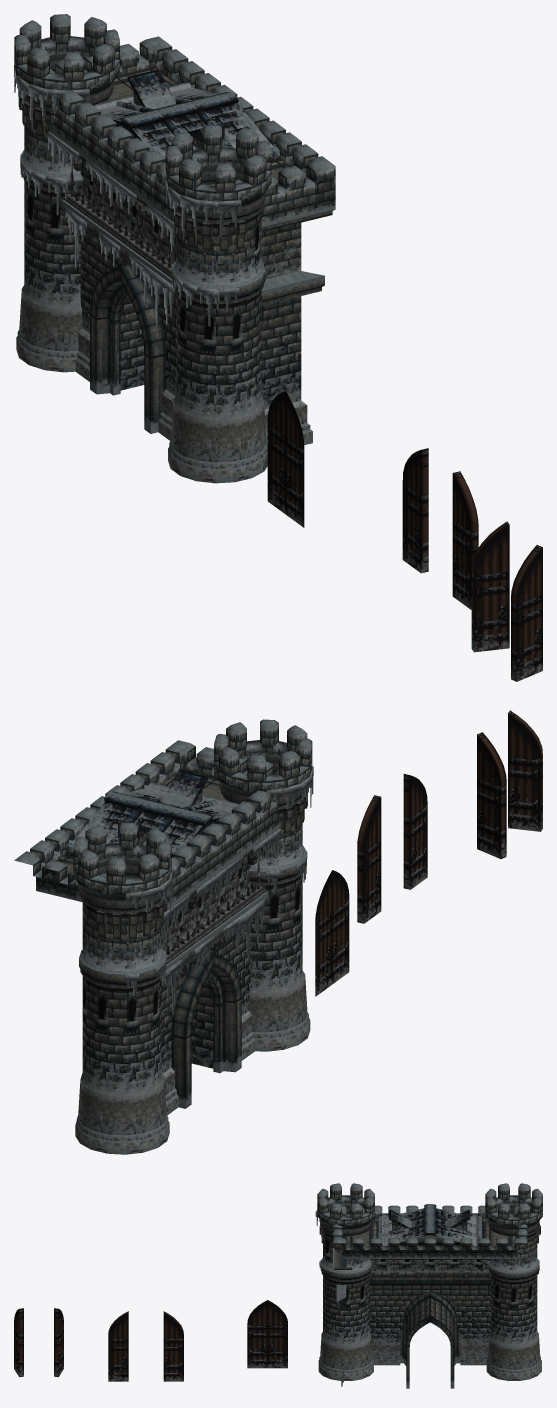
Rendered from EnvMdrMD_Checkpoint_Gate_A.FBX.
3 views of the same model, one above another, from view 1: azimuth 30°, elevation 25°; view 2: azimuth 150°, elevation 25°; view 3: azimuth 270°, elevation 25° (orthographic). The views are drawn at different scales.
Visible parts, largest first — view 1: EnvMdrMD_Checkpoint_Gate_A, EnvMdrMD_Checkpoint_Gate_A_Open, EnvMdrMD_Checkpoint_Gate_A_Close, EnvMdrMD_Checkpoint_Gate_A_Door_L, EnvMdrMD_Checkpoint_Gate_A_Door_R; view 2: EnvMdrMD_Checkpoint_Gate_A, EnvMdrMD_Checkpoint_Gate_A_Open, EnvMdrMD_Checkpoint_Gate_A_Close, EnvMdrMD_Checkpoint_Gate_A_Door_L, EnvMdrMD_Checkpoint_Gate_A_Door_R; view 3: EnvMdrMD_Checkpoint_Gate_A, EnvMdrMD_Checkpoint_Gate_A_Close, EnvMdrMD_Checkpoint_Gate_A_Door_L, EnvMdrMD_Checkpoint_Gate_A_Door_R, EnvMdrMD_Checkpoint_Gate_A_Open.
Boxes of the visible parts, x1,y1,x2,y2 form: EnvMdrMD_Checkpoint_Gate_A: (14, 14, 335, 483); EnvMdrMD_Checkpoint_Gate_A_Open: (471, 521, 542, 681); EnvMdrMD_Checkpoint_Gate_A_Close: (267, 391, 304, 527); EnvMdrMD_Checkpoint_Gate_A_Door_L: (402, 448, 428, 573); EnvMdrMD_Checkpoint_Gate_A_Door_R: (452, 471, 478, 609); EnvMdrMD_Checkpoint_Gate_A: (14, 719, 313, 1154); EnvMdrMD_Checkpoint_Gate_A_Open: (477, 710, 542, 858); EnvMdrMD_Checkpoint_Gate_A_Close: (315, 870, 349, 996); EnvMdrMD_Checkpoint_Gate_A_Door_L: (357, 795, 381, 923); EnvMdrMD_Checkpoint_Gate_A_Door_R: (403, 774, 427, 889); EnvMdrMD_Checkpoint_Gate_A: (315, 1183, 542, 1388); EnvMdrMD_Checkpoint_Gate_A_Close: (247, 1300, 287, 1368); EnvMdrMD_Checkpoint_Gate_A_Door_L: (163, 1311, 183, 1381); EnvMdrMD_Checkpoint_Gate_A_Door_R: (108, 1311, 128, 1381); EnvMdrMD_Checkpoint_Gate_A_Open: (14, 1308, 63, 1377).
Size of the model in its own units: 405 by 805 by 2205.
